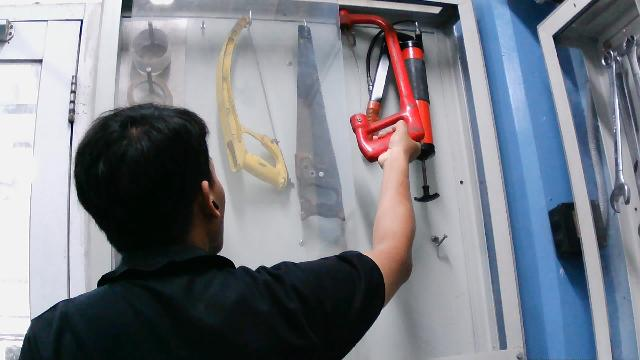gergaji_besi: (332, 7, 427, 165)
